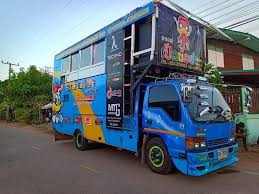truck: (50, 17, 240, 176)
